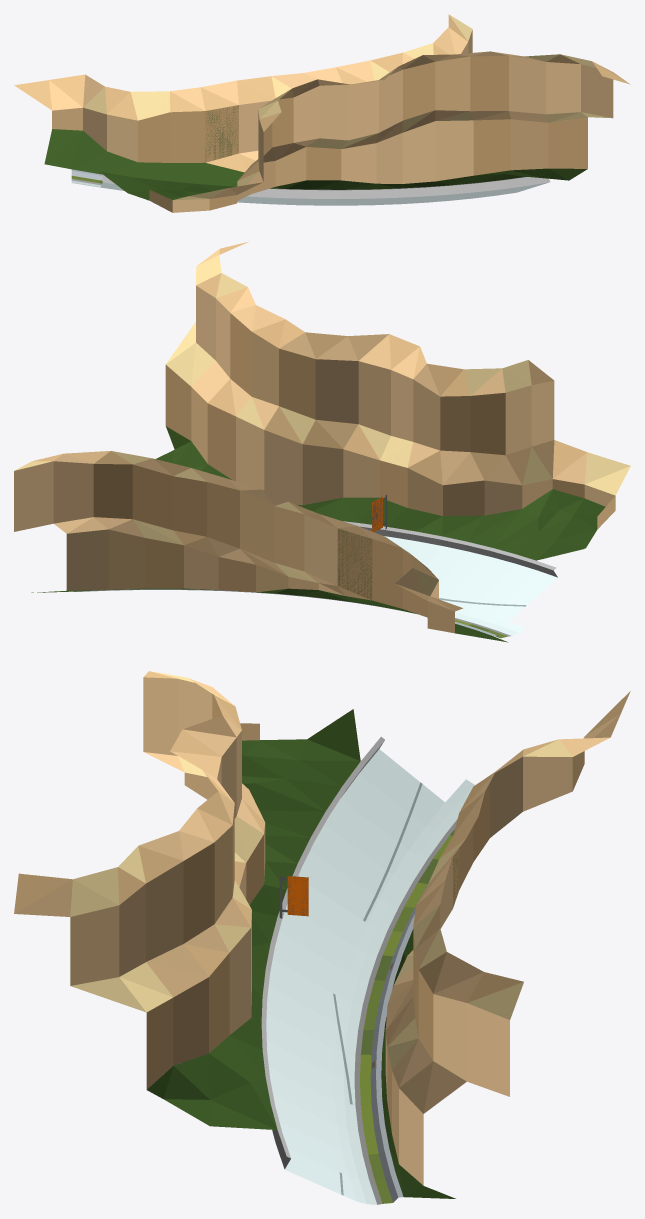
The picture shows the model from 3 angles, top to bottom: view 1: azimuth 30°, elevation 25°; view 2: azimuth 150°, elevation 25°; view 3: azimuth 270°, elevation 25°; orthographic projection. The views are drawn at different scales.
Parts seen in each view (by area): view 1: O3BF51; view 2: O3BF51; view 3: O3BF51.
Part boxes in pixels (x1,y1,x2,y2): O3BF51: (14, 14, 630, 212); O3BF51: (14, 242, 630, 642); O3BF51: (14, 671, 630, 1204).
Size of the model in its own units: 139 by 64.4 by 115.
